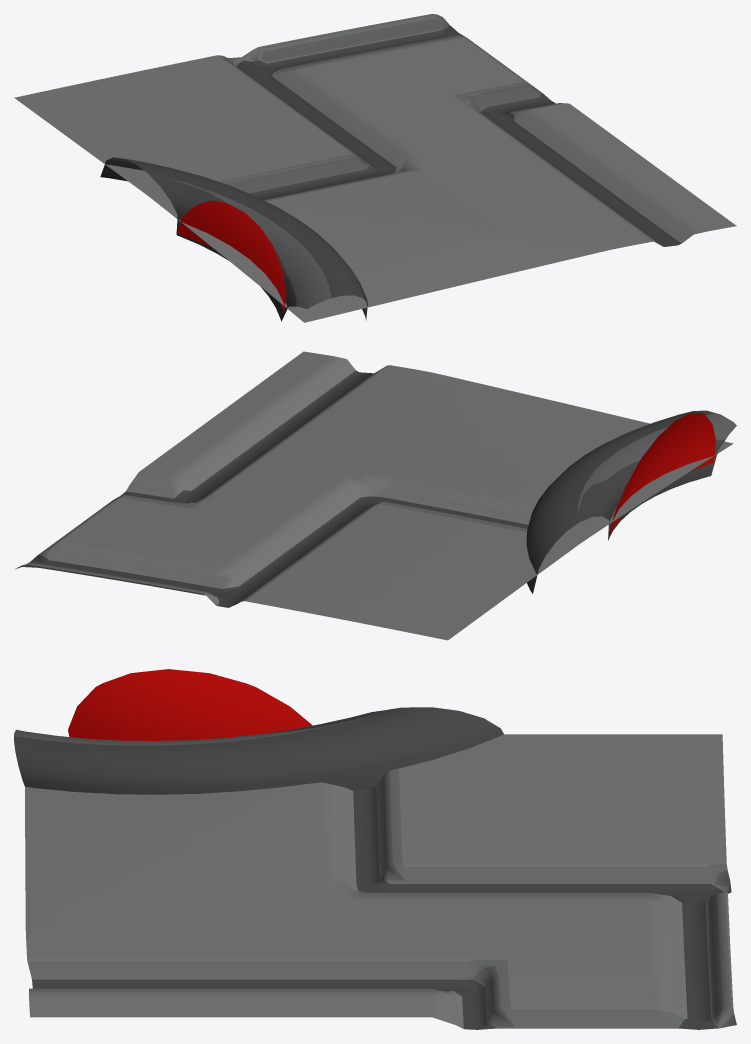
The model's file is coral_citadel_11.glb.
3 views of the same model, one above another, from view 1: azimuth 30°, elevation 25°; view 2: azimuth 150°, elevation 25°; view 3: azimuth 270°, elevation 25° (orthographic). The views are drawn at different scales.
Parts seen in each view (by area): view 1: coral_citadel_11; view 2: coral_citadel_11; view 3: coral_citadel_11.
Boxes of the visible parts, bbox=[...] form: coral_citadel_11: bbox=[14, 14, 736, 322]; coral_citadel_11: bbox=[15, 351, 736, 640]; coral_citadel_11: bbox=[14, 669, 736, 1029].
Size of the model in its own units: 24 by 4.65 by 28.76.
